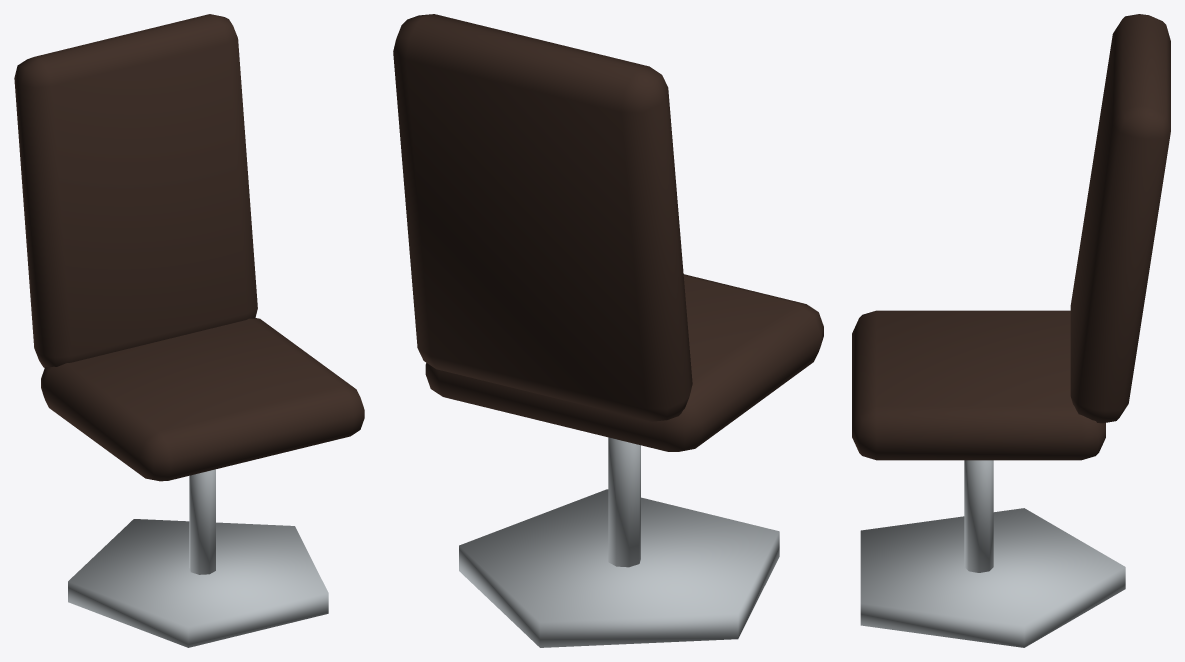
File: chair_exec.gltf
3 views of the same model, side by side, from view 1: azimuth 30°, elevation 25°; view 2: azimuth 150°, elevation 25°; view 3: azimuth 270°, elevation 25° (orthographic). The views are drawn at different scales.
Parts seen in each view (by area): view 1: chair_exec_mesh; view 2: chair_exec_mesh; view 3: chair_exec_mesh.
Part boxes in pixels (box(x1,y1,x2,y2)): chair_exec_mesh: box(14, 14, 364, 647); chair_exec_mesh: box(393, 14, 823, 647); chair_exec_mesh: box(852, 14, 1170, 647).
Bounding box in the file's own units: 0.5706 × 1.19 × 0.6527.
